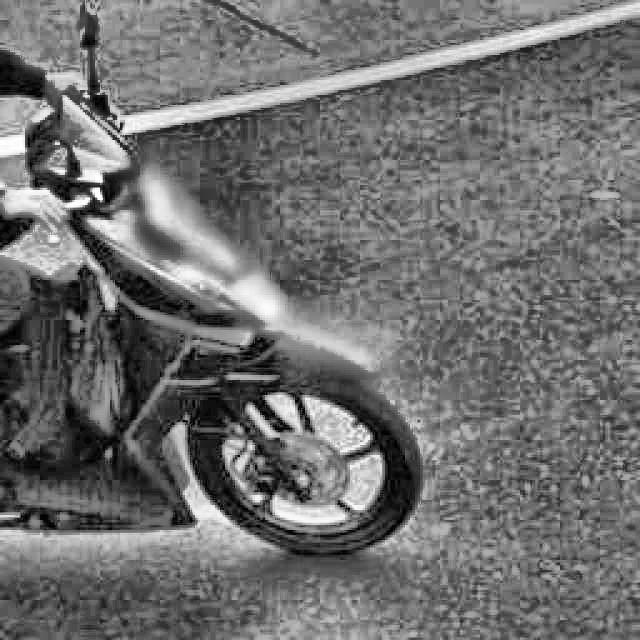motorcycle: (0, 1, 417, 562)
